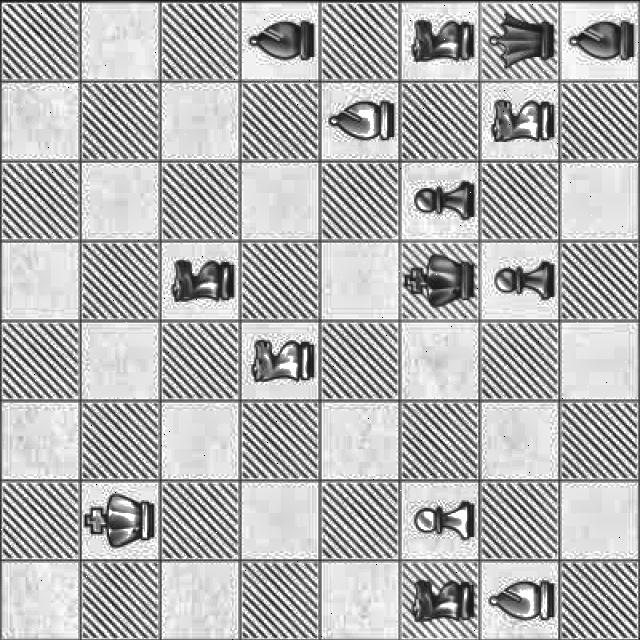Black Knight: (161, 244, 241, 312), (402, 566, 474, 636), (404, 7, 472, 76)
black bishop: (564, 5, 639, 79), (242, 5, 318, 72)
black king: (401, 246, 479, 316)
black pawn: (486, 245, 558, 319), (406, 168, 481, 232)
white bishop: (322, 83, 396, 159), (482, 570, 555, 634)
white king: (90, 490, 158, 552)
white pawn: (399, 493, 477, 541)
whiteknight: (240, 322, 318, 400), (483, 86, 558, 158)
